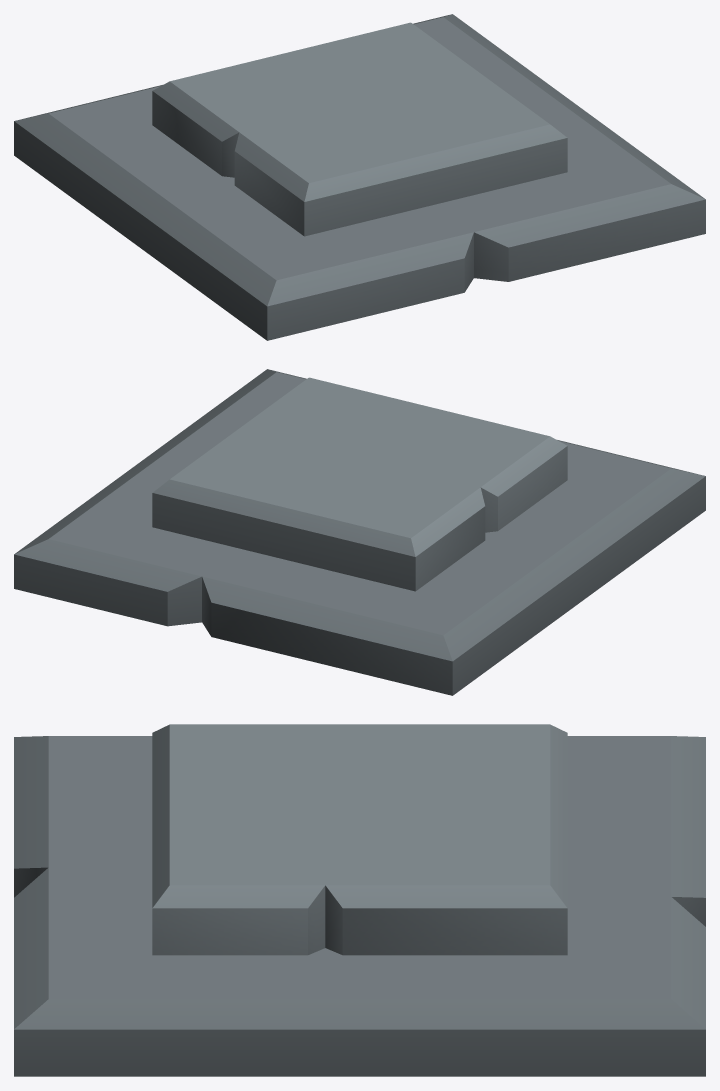
The model's file is plaque.glb.
3 renders of one model, top to bottom at view 1: azimuth 30°, elevation 25°; view 2: azimuth 150°, elevation 25°; view 3: azimuth 270°, elevation 25°, orthographic. The views are drawn at different scales.
Parts seen in each view (by area): view 1: plaque; view 2: plaque; view 3: plaque.
Part boxes in pixels (<box>): plaque: <box>14,14,705,340</box>; plaque: <box>14,369,705,695</box>; plaque: <box>14,724,705,1076</box>.
Size of the model in its own units: 2 by 0.4 by 2.
Materials: 1 (1 with a texture image).
